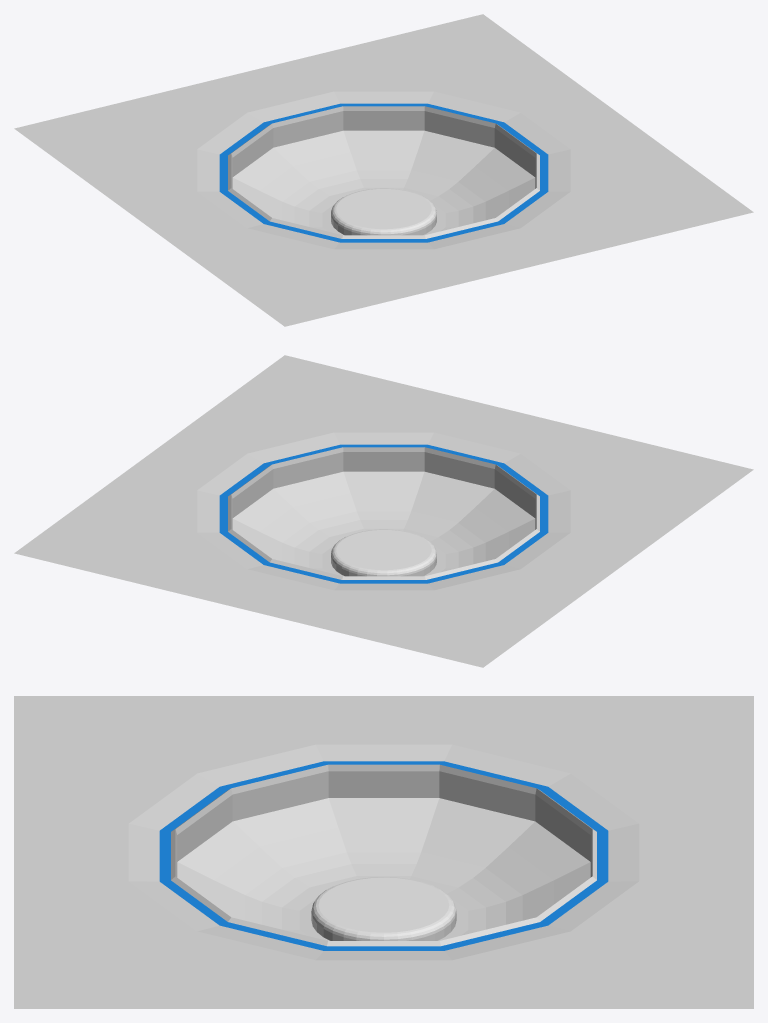
File: PressurePlateRig.dae
3 views of the same model, one above another, from view 1: azimuth 30°, elevation 25°; view 2: azimuth 150°, elevation 25°; view 3: azimuth 270°, elevation 25° (orthographic). The views are drawn at different scales.
Parts seen in each view (by area): view 1: Plane, Cylinder, Circle; view 2: Plane, Cylinder, Circle; view 3: Plane, Cylinder, Circle.
Boxes of the visible parts, <box> form: Plane: <box>14,14,753,326</box>; Cylinder: <box>331,188,436,235</box>; Circle: <box>219,103,548,242</box>; Plane: <box>14,355,753,667</box>; Cylinder: <box>331,529,436,576</box>; Circle: <box>219,444,548,583</box>; Plane: <box>14,696,753,1008</box>; Cylinder: <box>311,877,456,940</box>; Circle: <box>159,761,608,950</box>.
Size of the model in its own units: 10.18 by 10.18 by 1.3.
